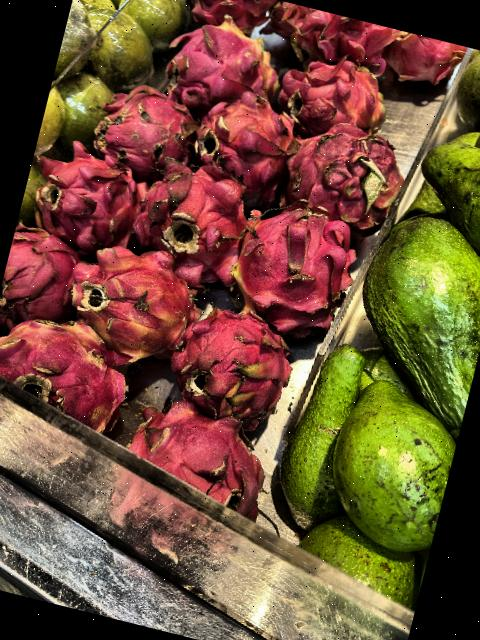buah-naga-belum-matang: (0, 302, 150, 449), (56, 235, 206, 371), (158, 0, 288, 119), (266, 36, 400, 145), (186, 86, 304, 208)
buah-naga-matang: (100, 364, 298, 540), (154, 284, 312, 434), (128, 142, 273, 292), (216, 184, 347, 346), (274, 109, 414, 241), (19, 137, 160, 256), (84, 58, 210, 186), (0, 224, 91, 342)
